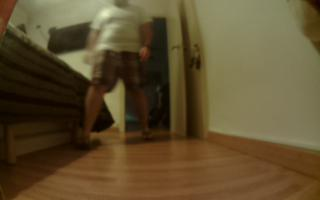person: (87, 1, 153, 151)
